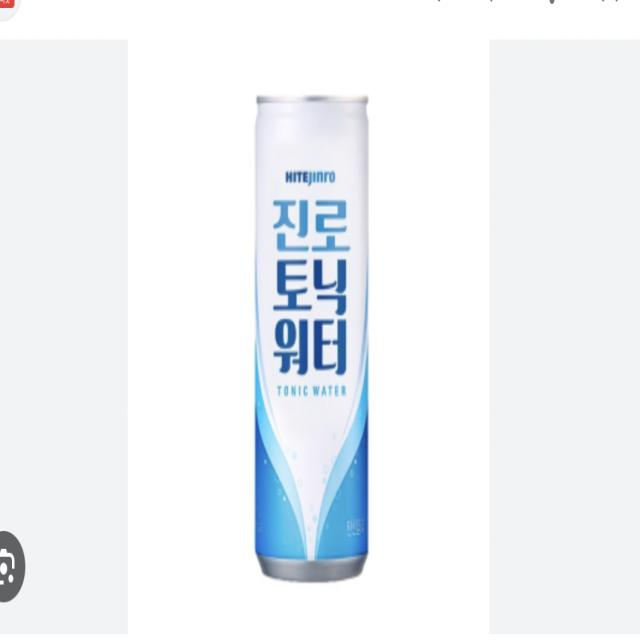recyclable: (238, 73, 384, 593)
